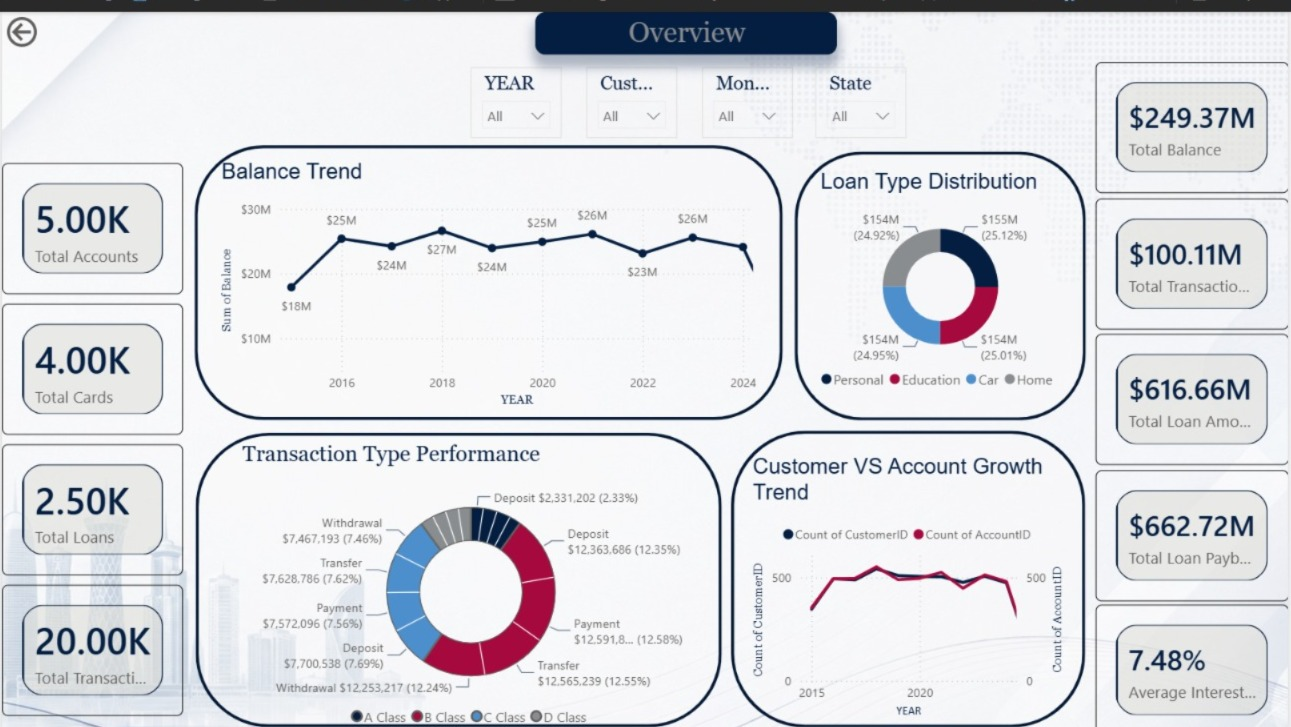

The page's visual inventory and layout, read from the dashboard file:
{"tool":"powerbi","page":{"name":"Overview","canvas":[1280,720],"ordinal":1},"visuals":[{"type":"shape","box":[788.4,138.4,289.5,267.4],"z":0},{"type":"shape","box":[725.6,416.3,352.3,295.3],"z":1000},{"type":"shape","box":[193,418.6,523.3,293],"z":2000},{"type":"shape","box":[191.9,132.6,584.9,273.3],"z":3000},{"type":"slicer","fields":{"Values":["Calendar.YEAR"]},"box":[466.2,54.4,90,70],"z":4000},{"type":"slicer","fields":{"Values":["Accounts.Customer Segment"]},"box":[581.9,54.4,90,70],"z":5000},{"type":"slicer","fields":{"Values":["Customers.State"]},"box":[809.8,54.4,90,70],"z":6000},{"type":"slicer","fields":{"Values":["Calendar.Month"]},"box":[696.4,54.4,90,70],"z":7000},{"type":"lineChart","title":"Customer VS Account Growth Trend","fields":{"Category":["Calendar.YEAR"],"Y":["CountNonNull(Customers.CustomerID)"],"Y2":["CountNonNull(Accounts.AccountID)"]},"box":[741.9,439.5,320.9,267.4],"z":8000},{"type":"lineChart","title":"Balance Trend","fields":{"Category":["Calendar.YEAR"],"Y":["Sum(Accounts.Balance)"]},"box":[214,146.5,541.9,251.2],"z":9000},{"type":"donutChart","title":"Loan Type Distribution ","fields":{"Category":["Loans.LoanType"],"Y":["Sum(Loans.LoanAmount)"]},"box":[809.3,155.8,248.8,229.1],"z":10000},{"type":"textbox","title":"Overview","box":[530.2,0,300,42],"z":11000},{"type":"cardVisual","fields":{"Data":["Measure.Total Accounts"]},"box":[0,150,180,130],"z":12000},{"type":"cardVisual","fields":{"Data":["Measure.Total Cards"]},"box":[0,290,180,130],"z":13000},{"type":"cardVisual","fields":{"Data":["Measure.Total Loans"]},"box":[0,430,180,130],"z":14000},{"type":"cardVisual","fields":{"Data":["Measure.Total Transactions"]},"box":[0,570,180.2,130],"z":15000},{"type":"cardVisual","fields":{"Data":["Measure.Total Balance"]},"box":[1088.4,50,191.9,130.2],"z":16000},{"type":"cardVisual","fields":{"Data":["Measure.Total Transaction Amount"]},"box":[1088.4,185,191.9,130],"z":17000},{"type":"cardVisual","fields":{"Data":["Measure.Total Loan Amount"]},"box":[1088.4,320,191.9,130],"z":18000},{"type":"cardVisual","fields":{"Data":["Measure.Total Loan Payback"]},"box":[1088.4,455.8,191.9,130],"z":19000},{"type":"cardVisual","fields":{"Data":["Measure.Average Interest Rate"]},"box":[1088.4,590,191.9,130],"z":20000},{"type":"donutChart","title":"Transaction Type Performance","fields":{"Category":["Accounts.Customer Segment"],"Series":["Transactions.TransactionType"],"Y":["Sum(Transactions.Amount)"]},"box":[233.7,426.7,465.1,293],"z":21000},{"type":"actionButton","box":[0,0,44.2,39.7],"z":22000}]}

Visuals, with their boxes in screenshot pixels (x1, y1, x2, y2), scaled from the page's 1280x720 canvas onto the 1291x727 screenshot:
shape: pyautogui.locateOnScreen(795, 140, 1087, 410)
shape: pyautogui.locateOnScreen(732, 420, 1087, 719)
shape: pyautogui.locateOnScreen(195, 423, 722, 719)
shape: pyautogui.locateOnScreen(194, 134, 783, 410)
slicer - Calendar.YEAR: pyautogui.locateOnScreen(470, 55, 561, 126)
slicer - Accounts.Customer Segment: pyautogui.locateOnScreen(587, 55, 678, 126)
slicer - Customers.State: pyautogui.locateOnScreen(817, 55, 908, 126)
slicer - Calendar.Month: pyautogui.locateOnScreen(702, 55, 793, 126)
"Customer VS Account Growth Trend" lineChart: pyautogui.locateOnScreen(748, 444, 1072, 714)
"Balance Trend" lineChart: pyautogui.locateOnScreen(216, 148, 762, 402)
"Loan Type Distribution " donutChart: pyautogui.locateOnScreen(816, 157, 1067, 389)
"Overview" textbox: pyautogui.locateOnScreen(535, 0, 837, 42)
cardVisual - Measure.Total Accounts: pyautogui.locateOnScreen(0, 151, 182, 283)
cardVisual - Measure.Total Cards: pyautogui.locateOnScreen(0, 293, 182, 424)
cardVisual - Measure.Total Loans: pyautogui.locateOnScreen(0, 434, 182, 565)
cardVisual - Measure.Total Transactions: pyautogui.locateOnScreen(0, 576, 182, 707)
cardVisual - Measure.Total Balance: pyautogui.locateOnScreen(1098, 50, 1290, 182)
cardVisual - Measure.Total Transaction Amount: pyautogui.locateOnScreen(1098, 187, 1290, 318)
cardVisual - Measure.Total Loan Amount: pyautogui.locateOnScreen(1098, 323, 1290, 454)
cardVisual - Measure.Total Loan Payback: pyautogui.locateOnScreen(1098, 460, 1290, 591)
cardVisual - Measure.Average Interest Rate: pyautogui.locateOnScreen(1098, 596, 1290, 726)
"Transaction Type Performance" donutChart: pyautogui.locateOnScreen(236, 431, 705, 726)
actionButton: pyautogui.locateOnScreen(0, 0, 45, 40)
